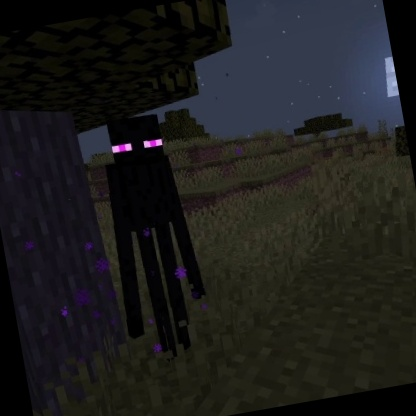enderman: (88, 105, 222, 370)
